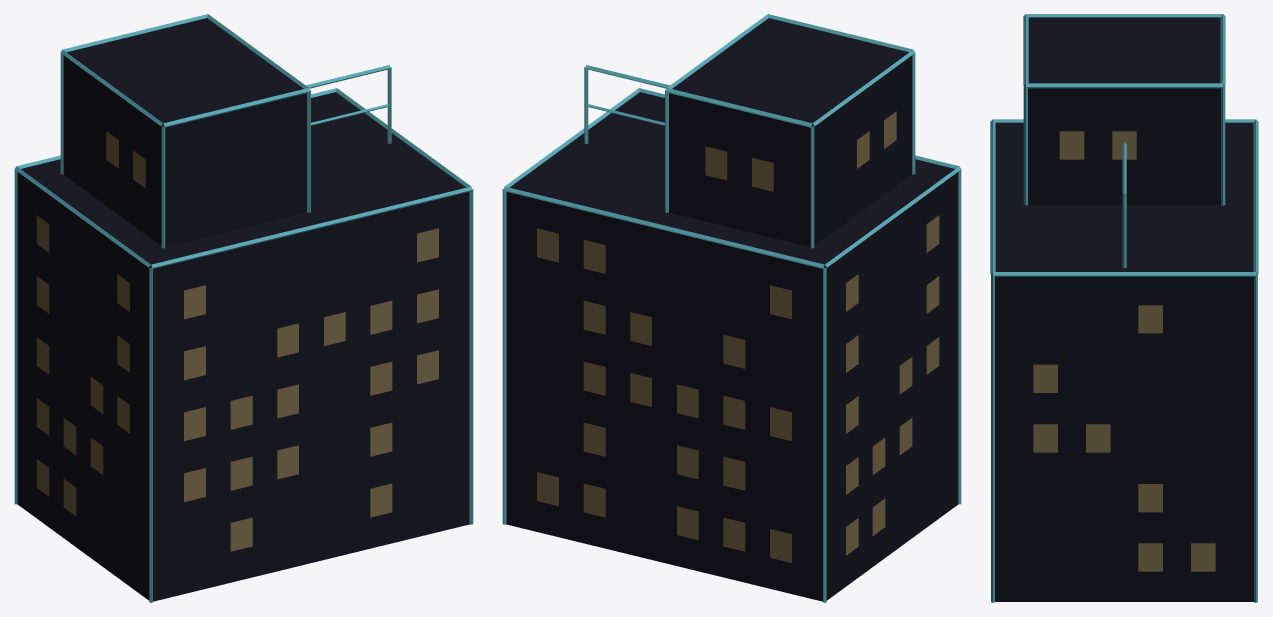
File: tower_a.glb
3 views of the same model, side by side, from view 1: azimuth 30°, elevation 25°; view 2: azimuth 150°, elevation 25°; view 3: azimuth 270°, elevation 25° (orthographic). The views are drawn at different scales.
Parts seen in each view (by area): view 1: root; view 2: root; view 3: root.
Boxes of the visible parts, x1=… form: root: x1=14, y1=14, x2=473, y2=602; root: x1=502, y1=14, x2=961, y2=602; root: x1=990, y1=14, x2=1258, y2=602.
Size of the model in its own units: 22.32 by 30.16 by 16.32.
